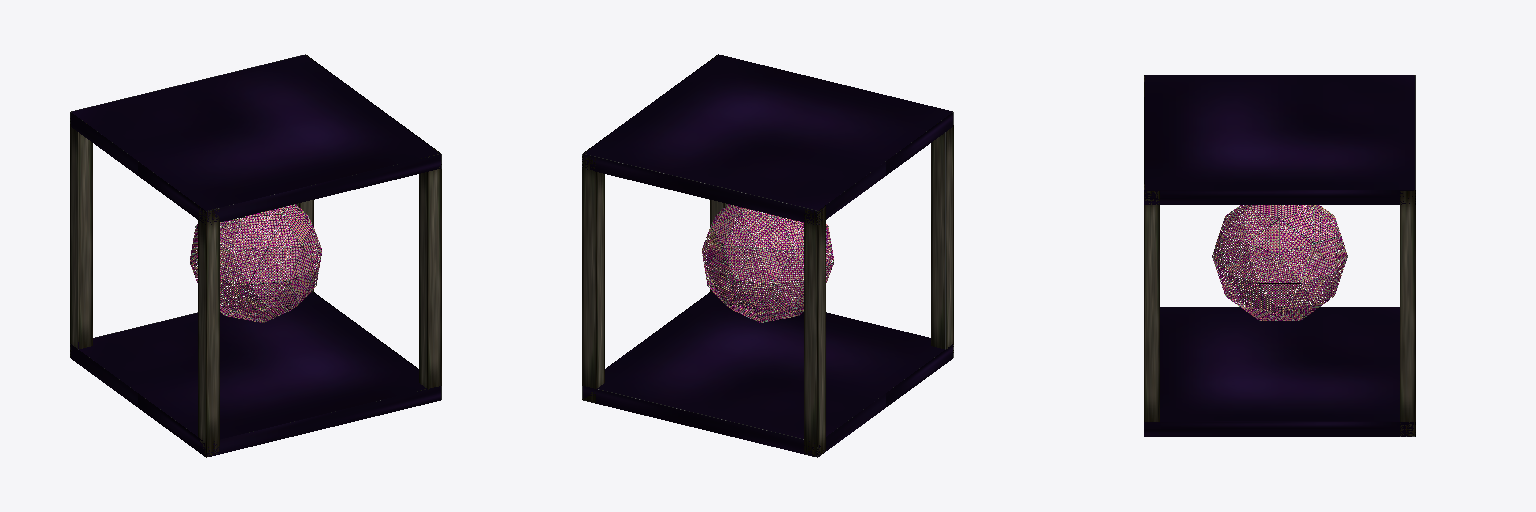
3 views of the same model, side by side, from view 1: azimuth 30°, elevation 25°; view 2: azimuth 150°, elevation 25°; view 3: azimuth 270°, elevation 25° (orthographic).
Visible parts, largest first — view 1: Cube.002, Cube.001, Icosphere, Cube.005, Cube.004, Cube.006; view 2: Cube.002, Cube.001, Icosphere, Cube.006, Cube.003, Cube.005; view 3: Cube.002, Cube.001, Icosphere, Cube.003, Cube.004.
Boxes of the visible parts, x1=… form: Cube.002: x1=70, y1=54, x2=441, y2=224; Cube.001: x1=70, y1=291, x2=441, y2=456; Icosphere: x1=190, y1=204, x2=321, y2=322; Cube.005: x1=198, y1=205, x2=219, y2=457; Cube.004: x1=419, y1=148, x2=441, y2=390; Cube.006: x1=70, y1=118, x2=92, y2=356; Cube.002: x1=582, y1=54, x2=953, y2=224; Cube.001: x1=582, y1=291, x2=953, y2=457; Icosphere: x1=702, y1=204, x2=833, y2=322; Cube.006: x1=804, y1=205, x2=825, y2=456; Cube.003: x1=582, y1=148, x2=604, y2=402; Cube.005: x1=931, y1=123, x2=953, y2=352; Cube.002: x1=1144, y1=75, x2=1415, y2=204; Cube.001: x1=1144, y1=307, x2=1415, y2=436; Icosphere: x1=1212, y1=205, x2=1347, y2=320; Cube.003: x1=1400, y1=190, x2=1415, y2=436; Cube.004: x1=1144, y1=183, x2=1159, y2=433.
Bounding box in the file's own units: 2 × 2 × 2.
Materials: 3 (3 with a texture image).